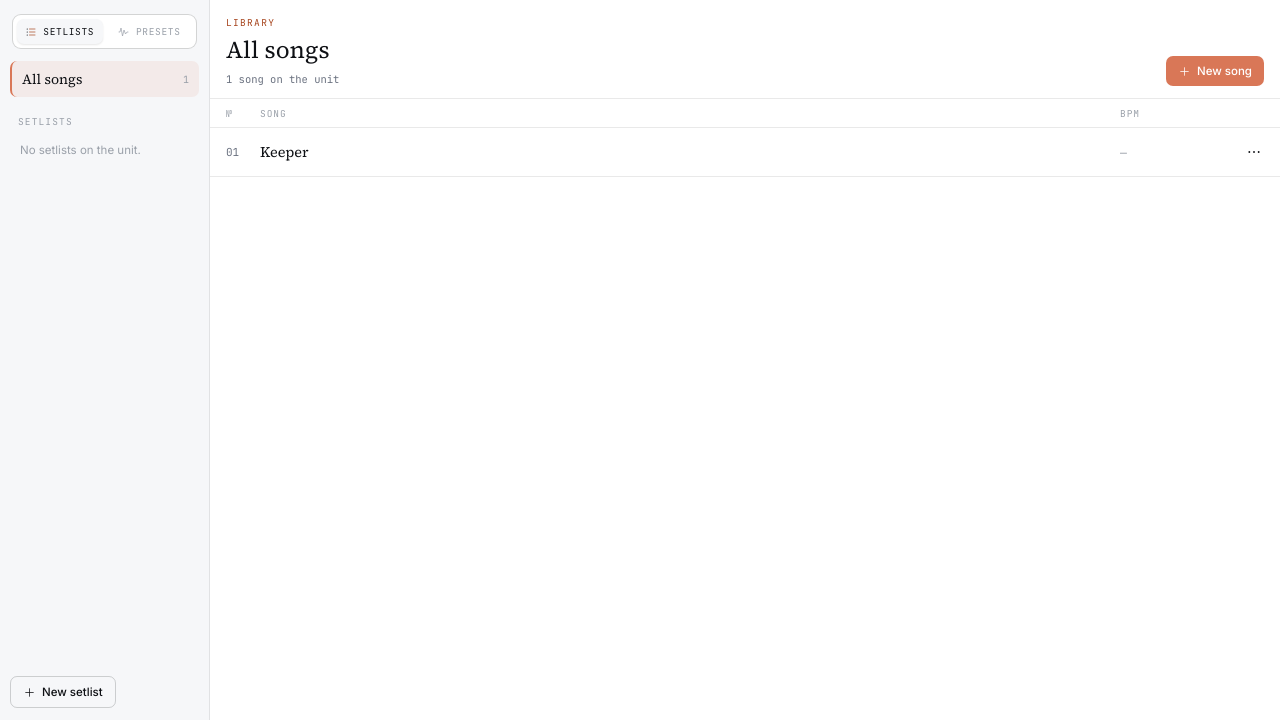
SongsView (device-backed) › a failed write surfaces a Toast and does NOT mutate the list (no optimistic drift)
expect the text "Keeper" is shown: met, box [260,142,309,162]
Click the element titled "More" at (1254, 152), box [1246,144,1262,160]
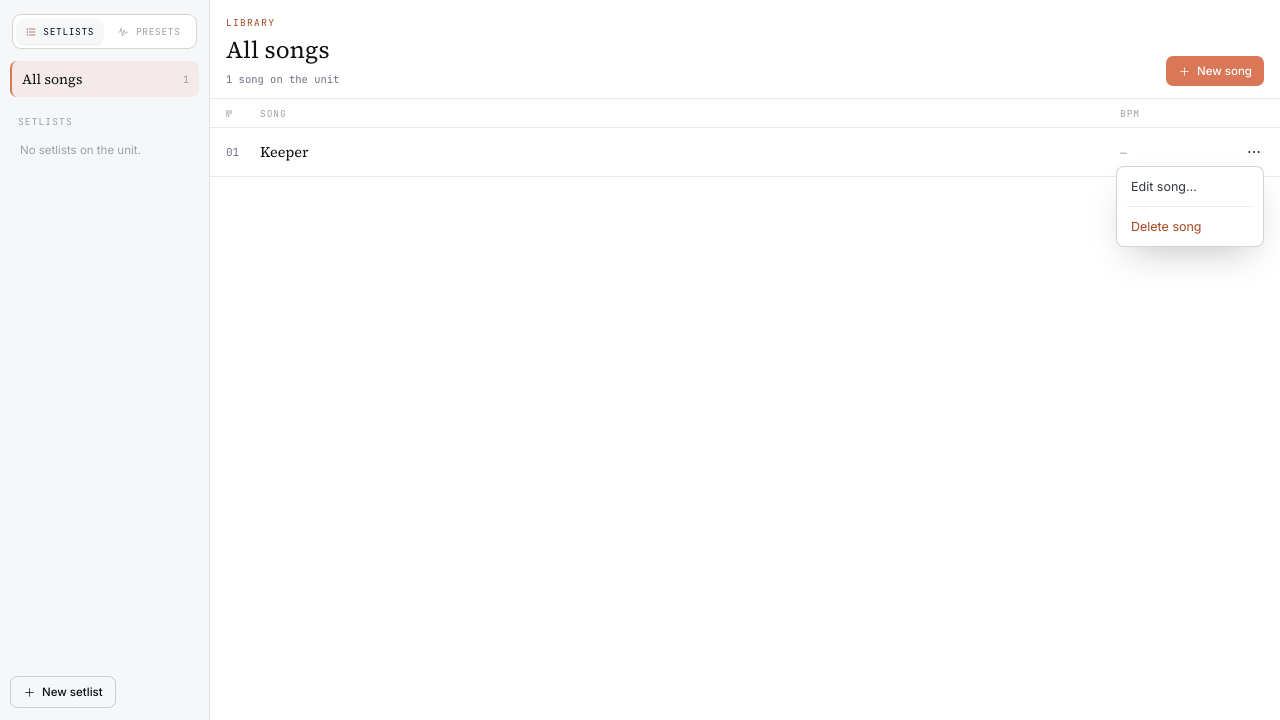
Click the menu item "Edit song…" at (1164, 186), box [1131,179,1197,194]
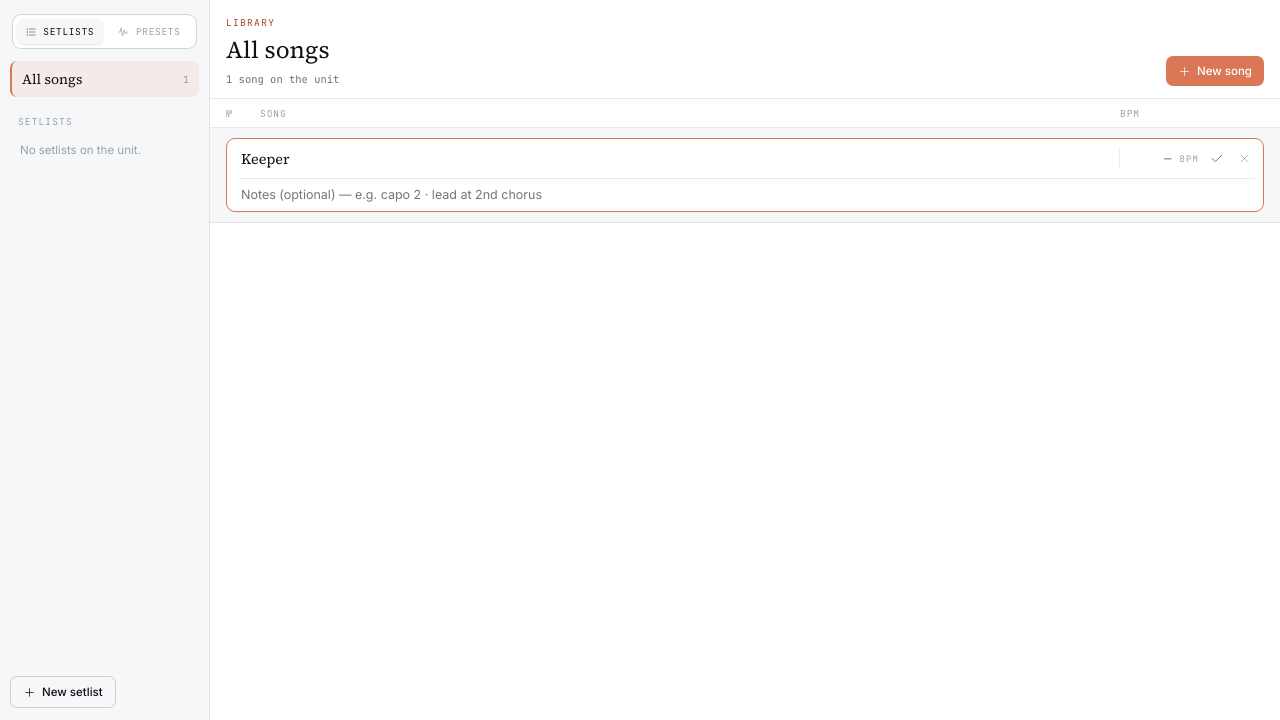
Replace the text in the field with placeholder "Song name" with "Renamed" at (674, 158), box [239,148,1108,170]
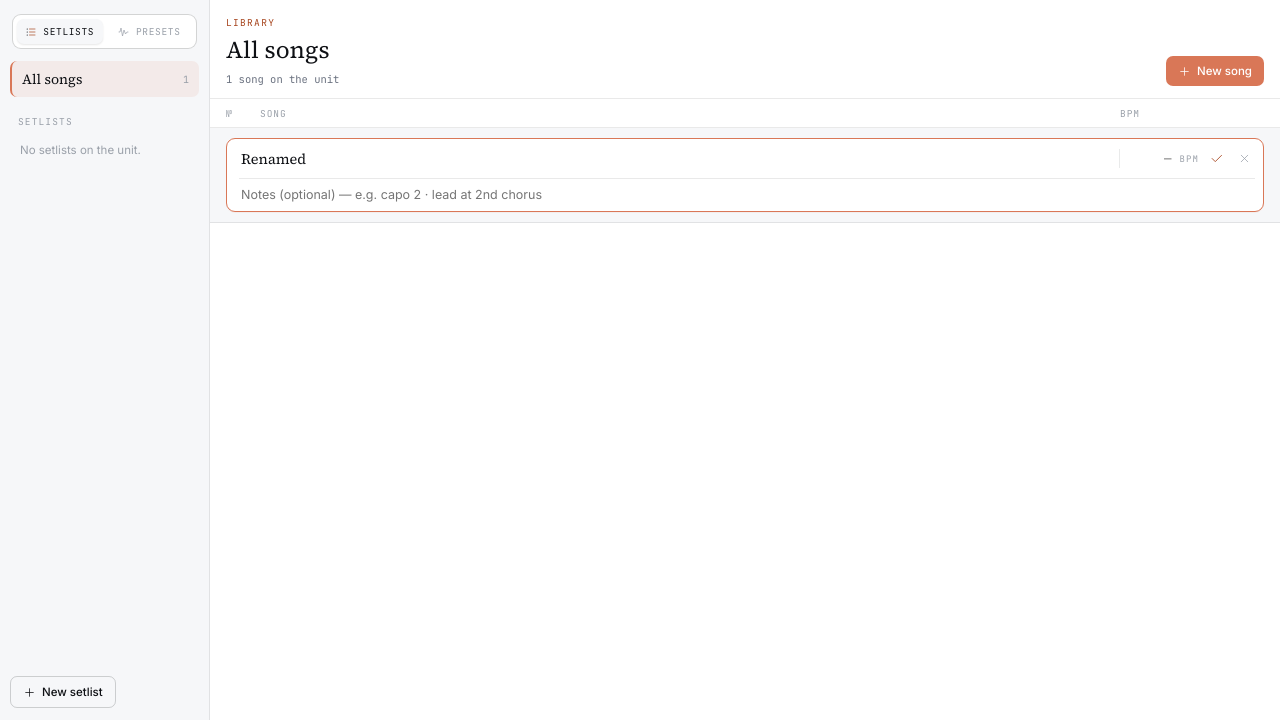
Press Enter
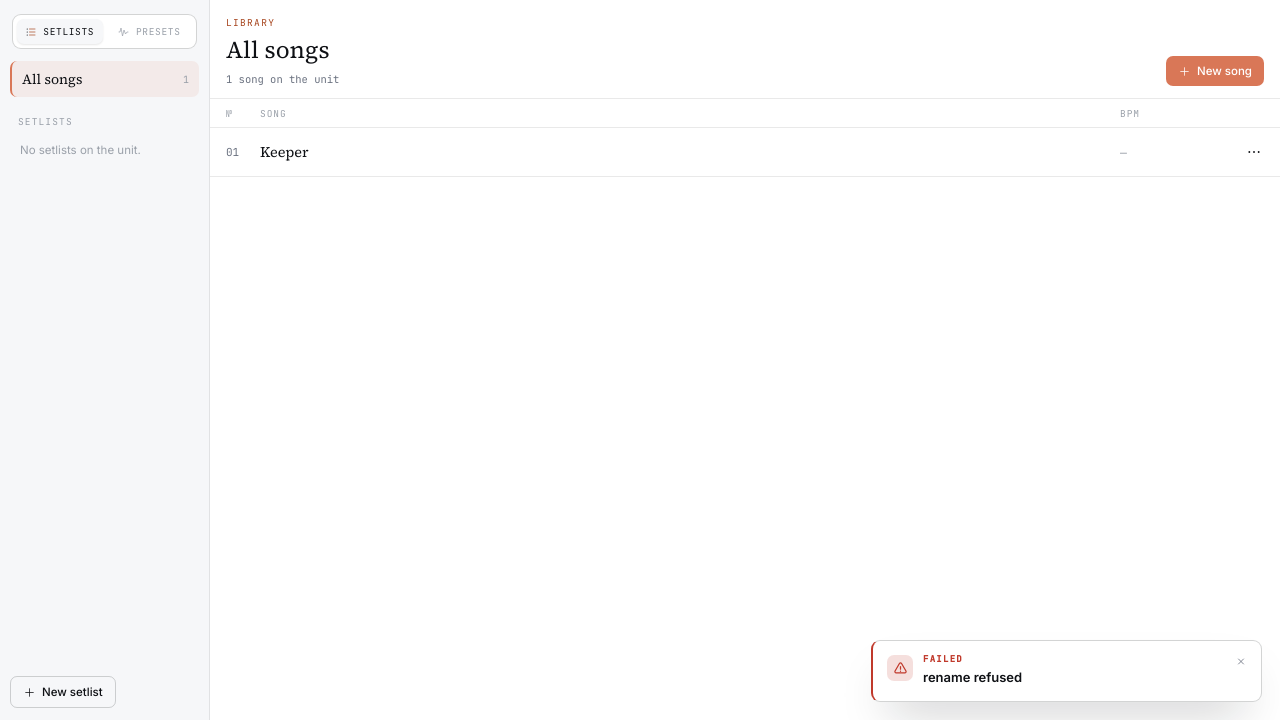
expect the text "Renamed" is not shown: met
expect the text "rename refused" is shown: met, box [923,670,1022,687]
expect the text "Keeper" is shown: met, box [260,142,309,162]
